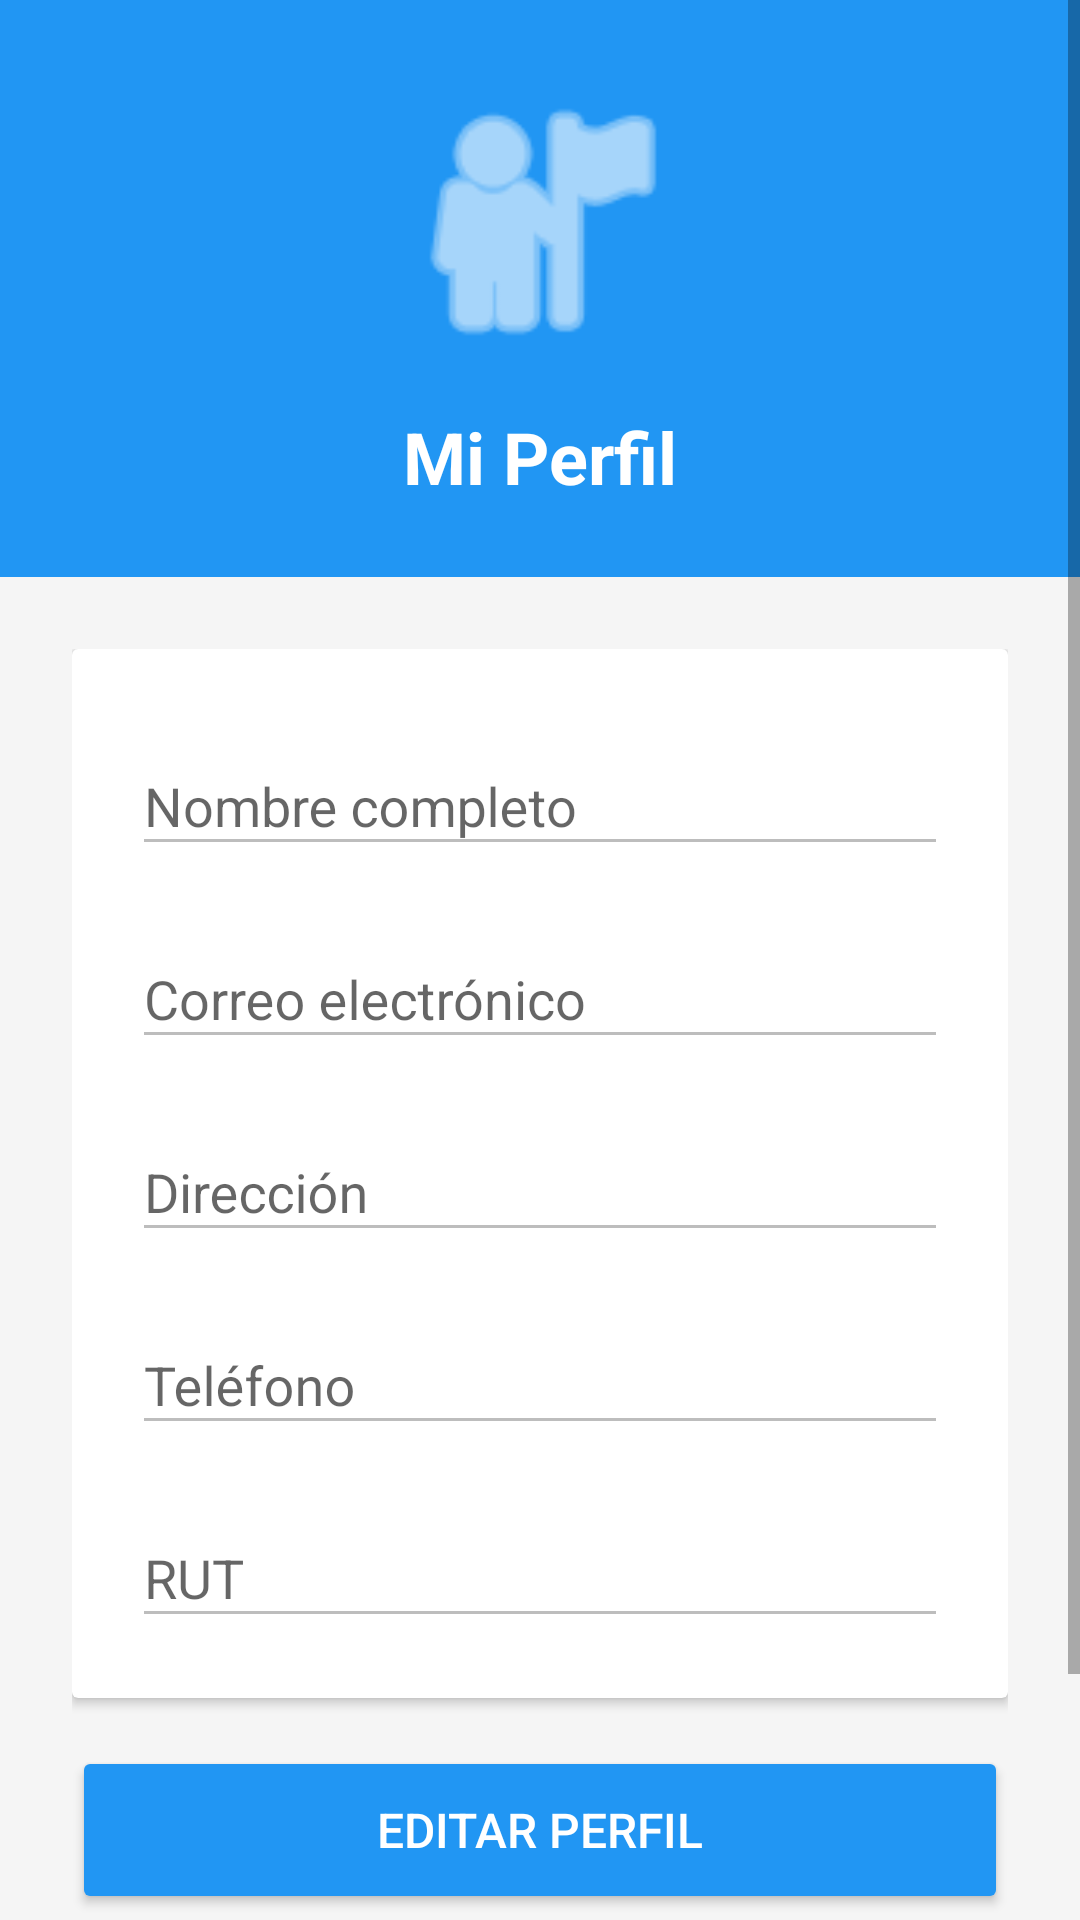

Where icons sit on this 1080 × 1920 app screen, as [x1=x1, y1=y1, x2=x2, y2=y2]:
myplaces: [x1=430, y1=110, x2=656, y2=334]
